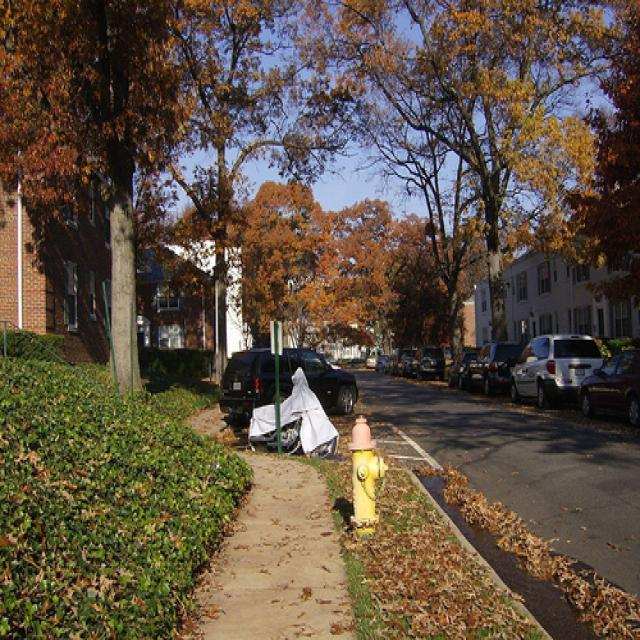fire_hydrant: (347, 415, 390, 541)
